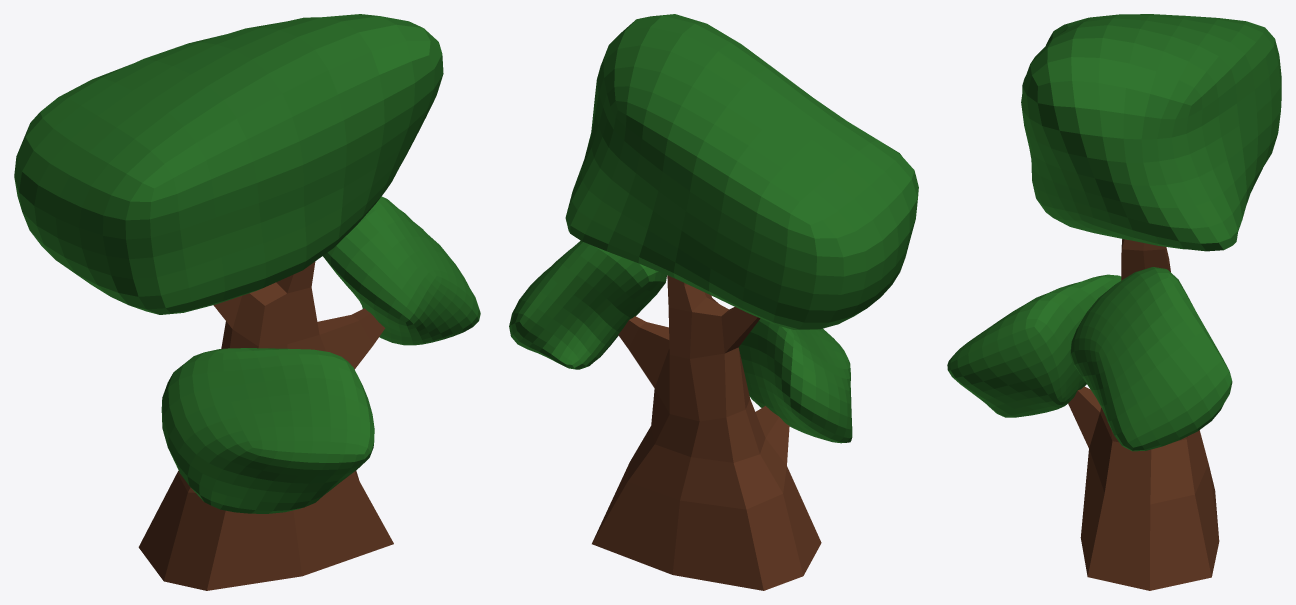
Rendered from Oak Tree 1.fbx.
3 views of the same model, side by side, from view 1: azimuth 30°, elevation 25°; view 2: azimuth 150°, elevation 25°; view 3: azimuth 270°, elevation 25° (orthographic). The views are drawn at different scales.
Visible parts, largest first — view 1: Cube.001, Cube.003, Cube, Cube.002; view 2: Cube.001, Cube, Cube.002, Cube.003; view 3: Cube.001, Cube, Cube.002, Cube.003.
Part boxes in pixels (box(x1,y1,x2,y2)): Cube.001: box(14, 14, 443, 314); Cube.003: box(161, 348, 374, 513); Cube: box(138, 261, 393, 590); Cube.002: box(323, 196, 480, 345); Cube.001: box(565, 14, 918, 329); Cube: box(592, 275, 821, 590); Cube.002: box(509, 240, 666, 369); Cube.003: box(738, 318, 852, 443); Cube.001: box(1021, 14, 1281, 251); Cube: box(1068, 239, 1219, 590); Cube.002: box(1070, 267, 1232, 451); Cube.003: box(947, 274, 1121, 417).
Size of the model in its own units: 3179 by 4055 by 2245.
